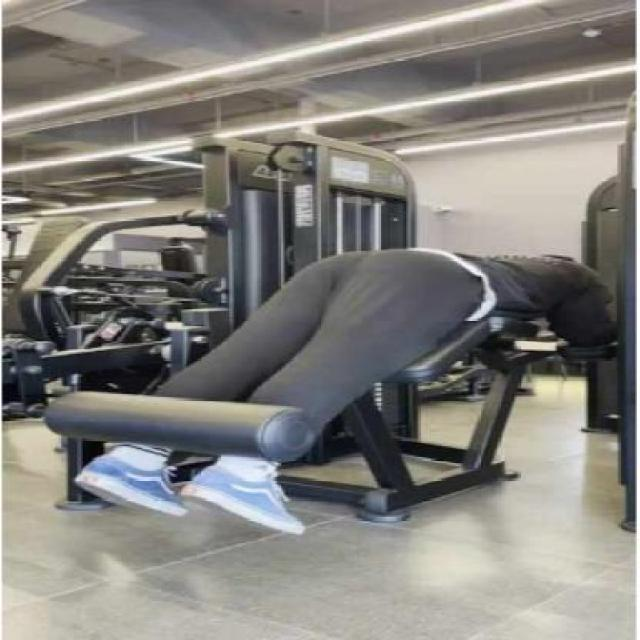reg curl machine: (37, 130, 637, 536)
